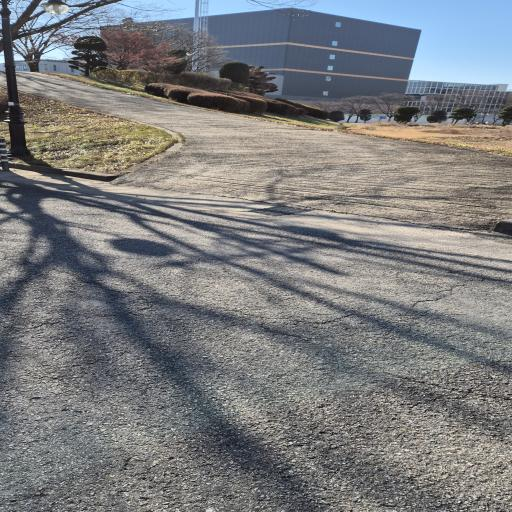drain: (248, 205, 310, 216)
